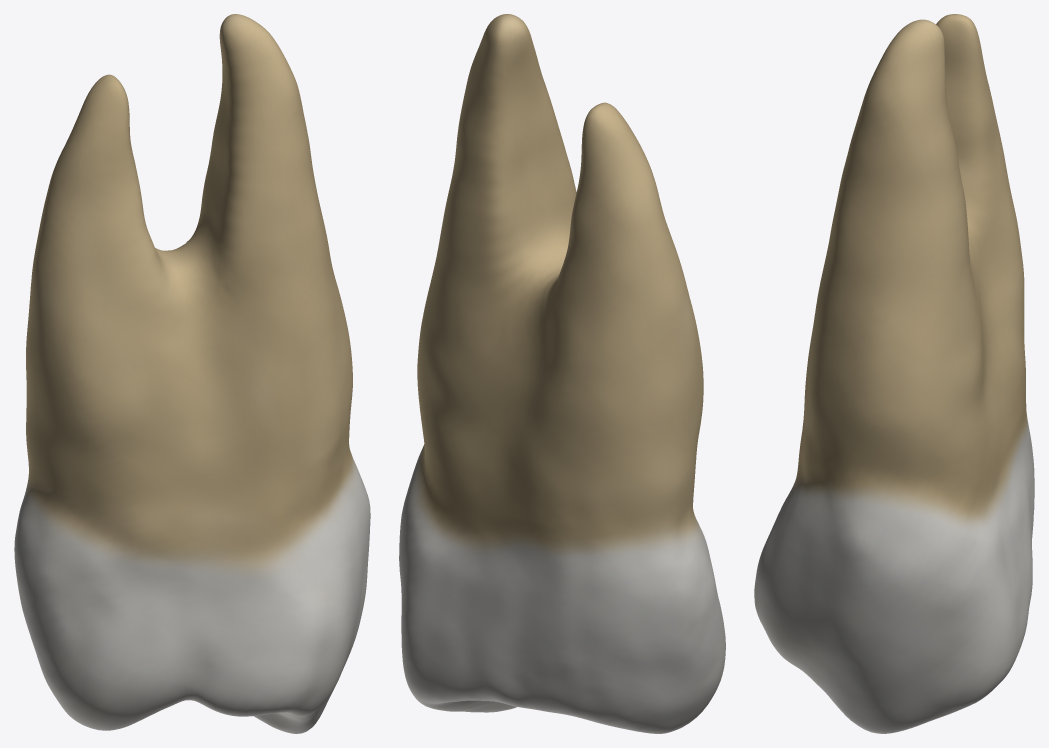
Rendered from maxillary_first_premolar.glb.
The picture shows the model from 3 angles, left to right: view 1: azimuth 30°, elevation 25°; view 2: azimuth 150°, elevation 25°; view 3: azimuth 270°, elevation 25°; orthographic projection. The views are drawn at different scales.
Parts seen in each view (by area): view 1: Object_3; view 2: Object_3; view 3: Object_3.
Boxes of the visible parts, x1,y1,x2,y2 form: Object_3: (14,14,370,733); Object_3: (399,14,725,733); Object_3: (754,14,1034,733).
Size of the model in its own units: 0.3954 by 0.8624 by 0.316.
1 material, 1 textured.
